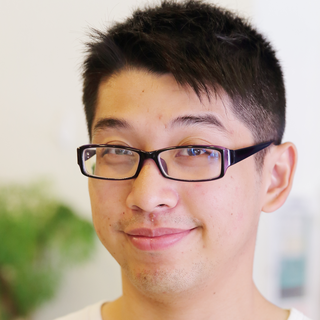eye: (173, 136, 219, 166), (92, 139, 135, 166)
